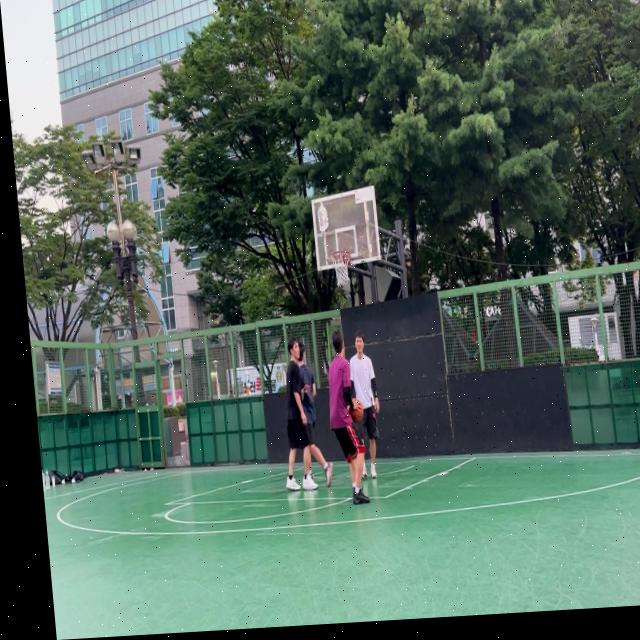basketball: (349, 397, 365, 423)
hoop: (330, 250, 353, 288)
